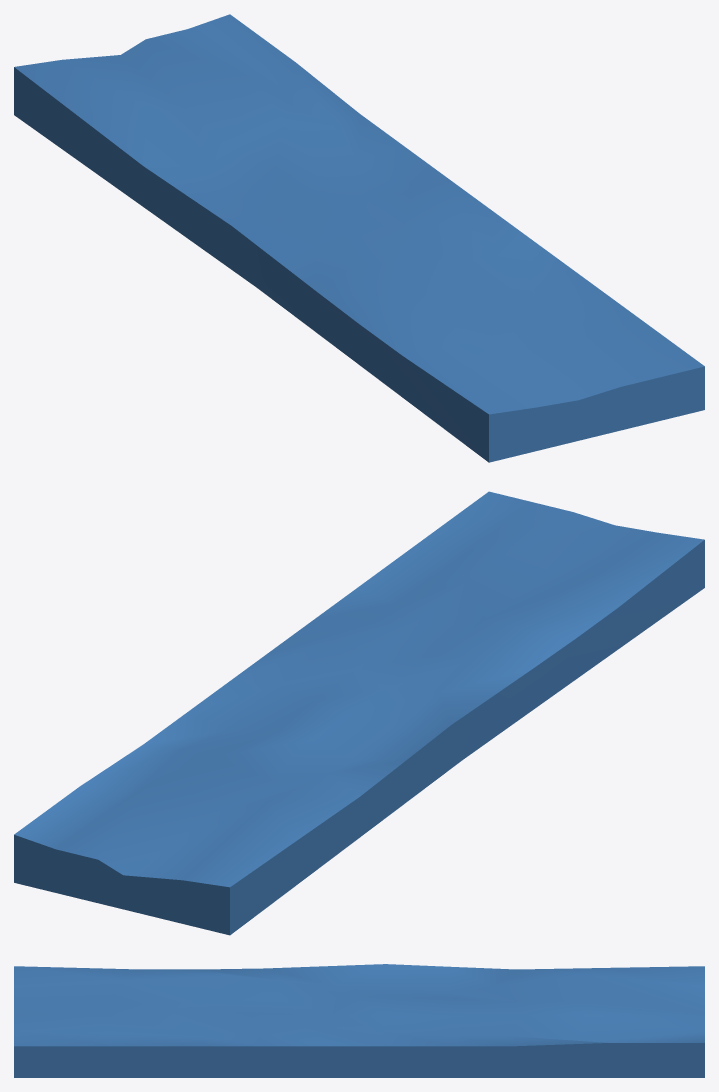
Rendered from Sea_2.fbx.
3 renders of one model, top to bottom at view 1: azimuth 30°, elevation 25°; view 2: azimuth 150°, elevation 25°; view 3: azimuth 270°, elevation 25°, orthographic. The views are drawn at different scales.
Parts seen in each view (by area): view 1: Sea_2; view 2: Sea_2; view 3: Sea_2.
Boxes of the visible parts, bbox=[...] form: Sea_2: bbox=[14, 14, 704, 462]; Sea_2: bbox=[14, 491, 704, 935]; Sea_2: bbox=[14, 964, 704, 1077].
Bounding box in the file's own units: 5266 × 1375 × 19888.
